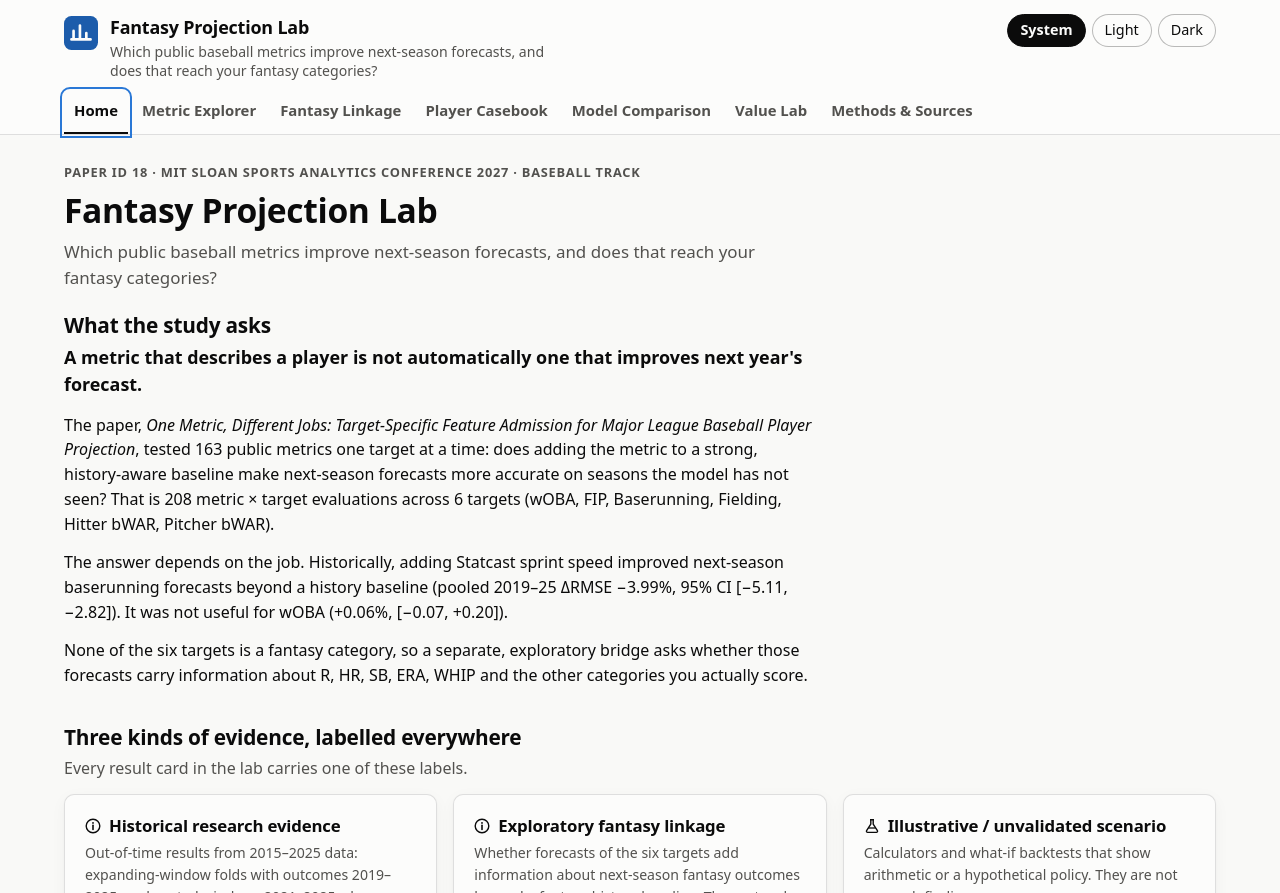
Test: app shell › every nav link opens its page
Earlier steps of the test are not shown.
Expected: the heading "Fantasy Projection Lab" is shown, x1=64 y1=187 x2=438 y2=233
What coordinates should you click on to do the following:
click the link "Metric Explorer"
I would click on:
 (199, 110)
Its box is x1=142 y1=100 x2=256 y2=120.
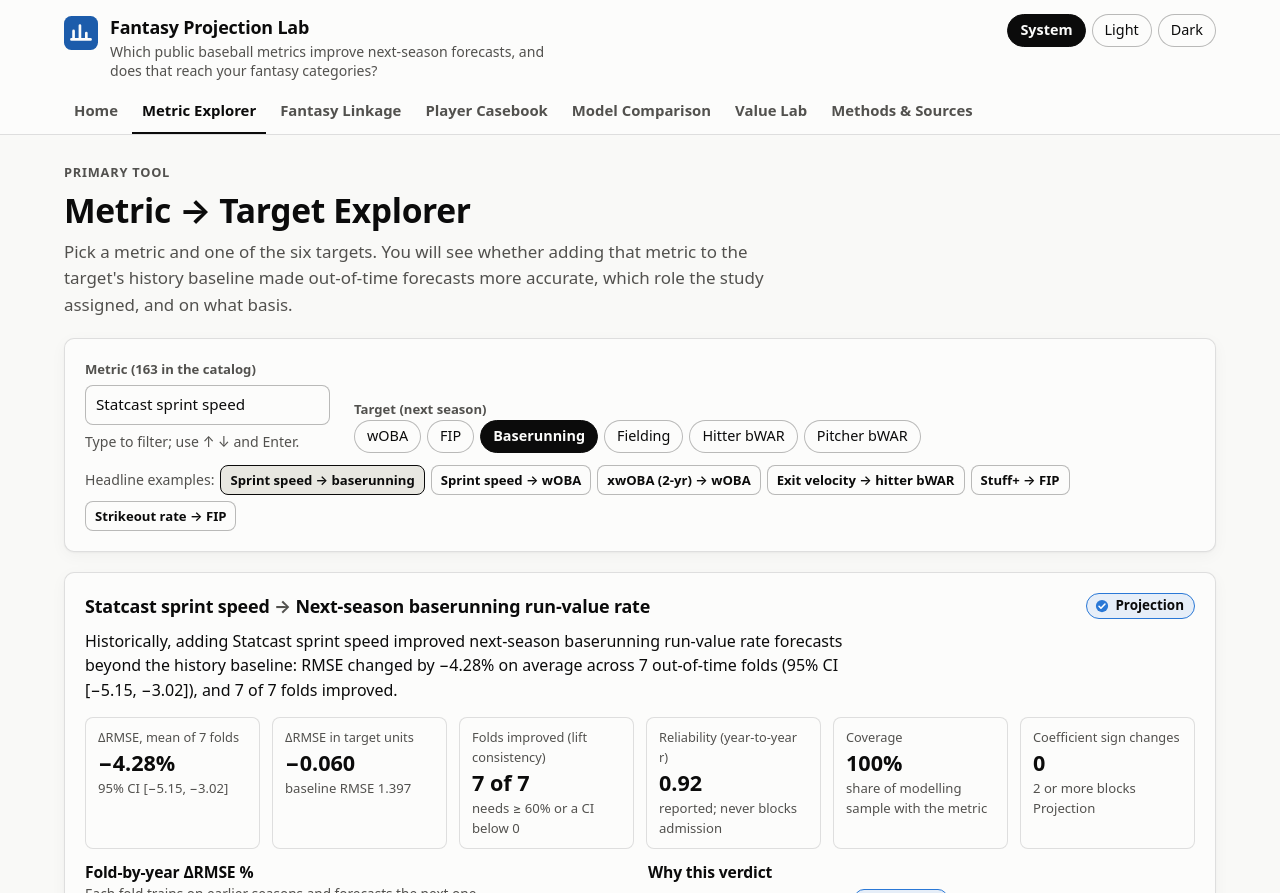
Expected: the heading "Metric → Target Explorer" is shown, x1=64 y1=187 x2=471 y2=233
What coordinates should you click on to do the following:
click the link "Fantasy Linkage"
I would click on:
 (341, 110)
Its box is x1=280 y1=100 x2=401 y2=120.
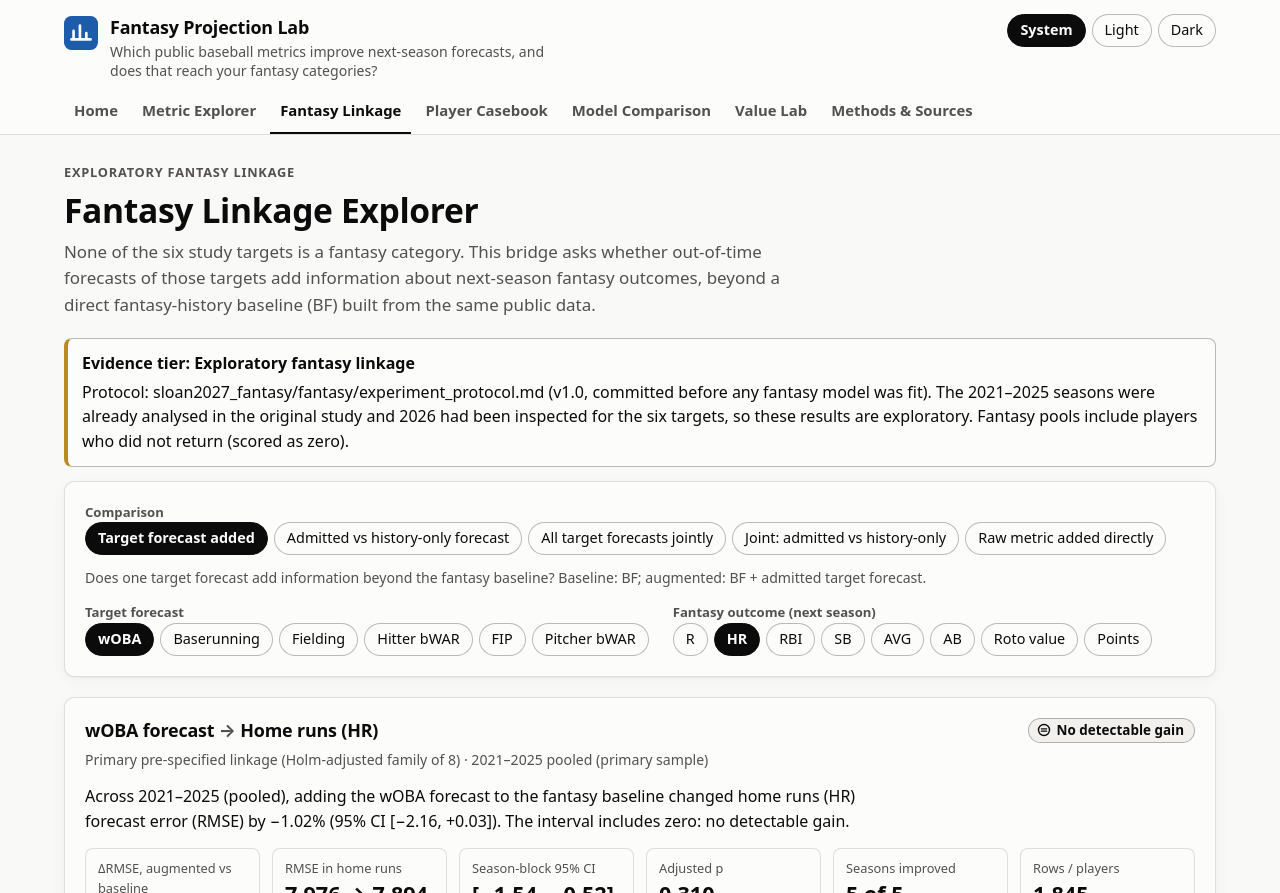
Expected: the heading "Fantasy Linkage Explorer" is shown, x1=64 y1=187 x2=478 y2=233
What coordinates should you click on to do the following:
click the link "Player Casebook"
I would click on:
 (487, 110)
Its box is x1=425 y1=100 x2=548 y2=120.
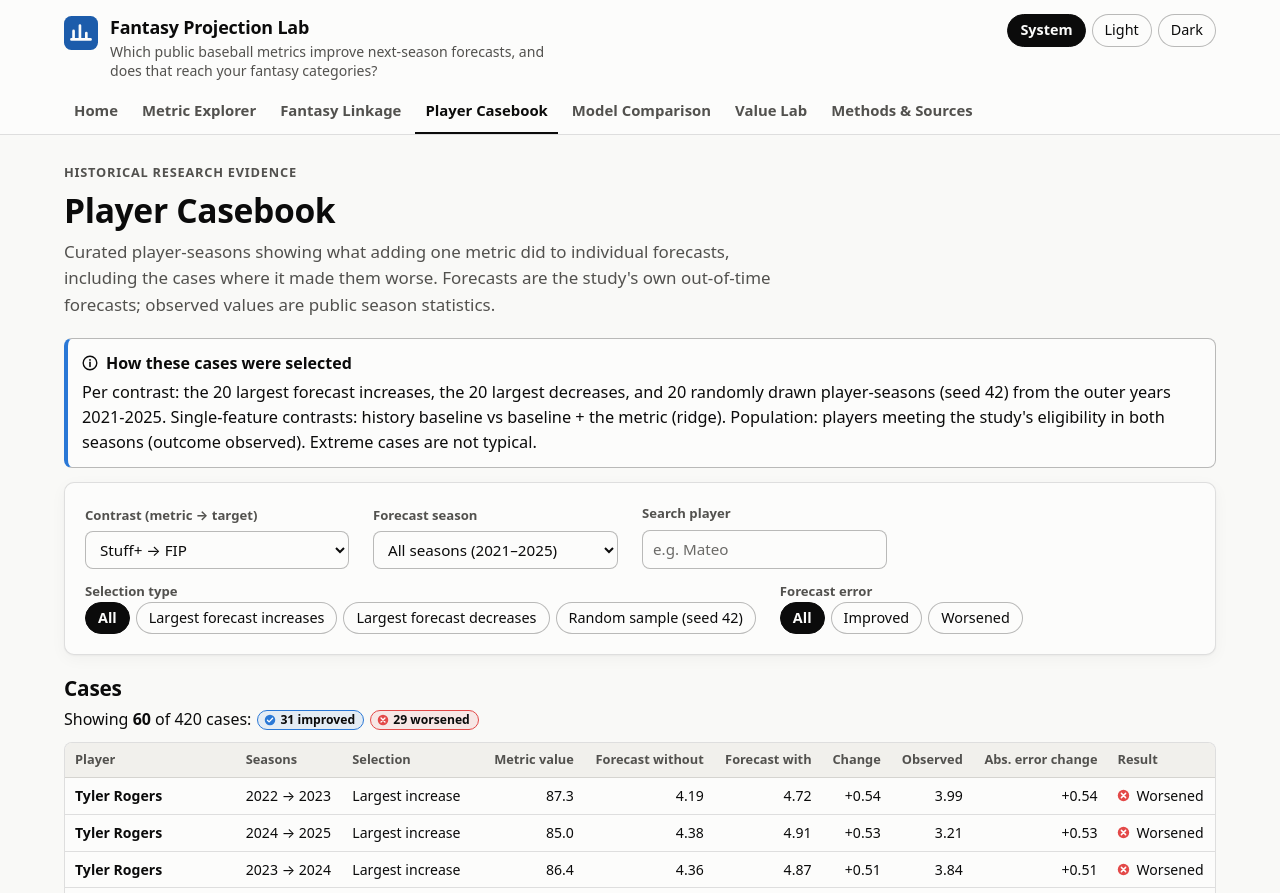
Expected: the heading "Player Casebook" is shown, x1=64 y1=187 x2=335 y2=233
What coordinates should you click on to do the following:
click the link "Model Comparison"
I would click on:
 (641, 110)
Its box is x1=572 y1=100 x2=711 y2=120.
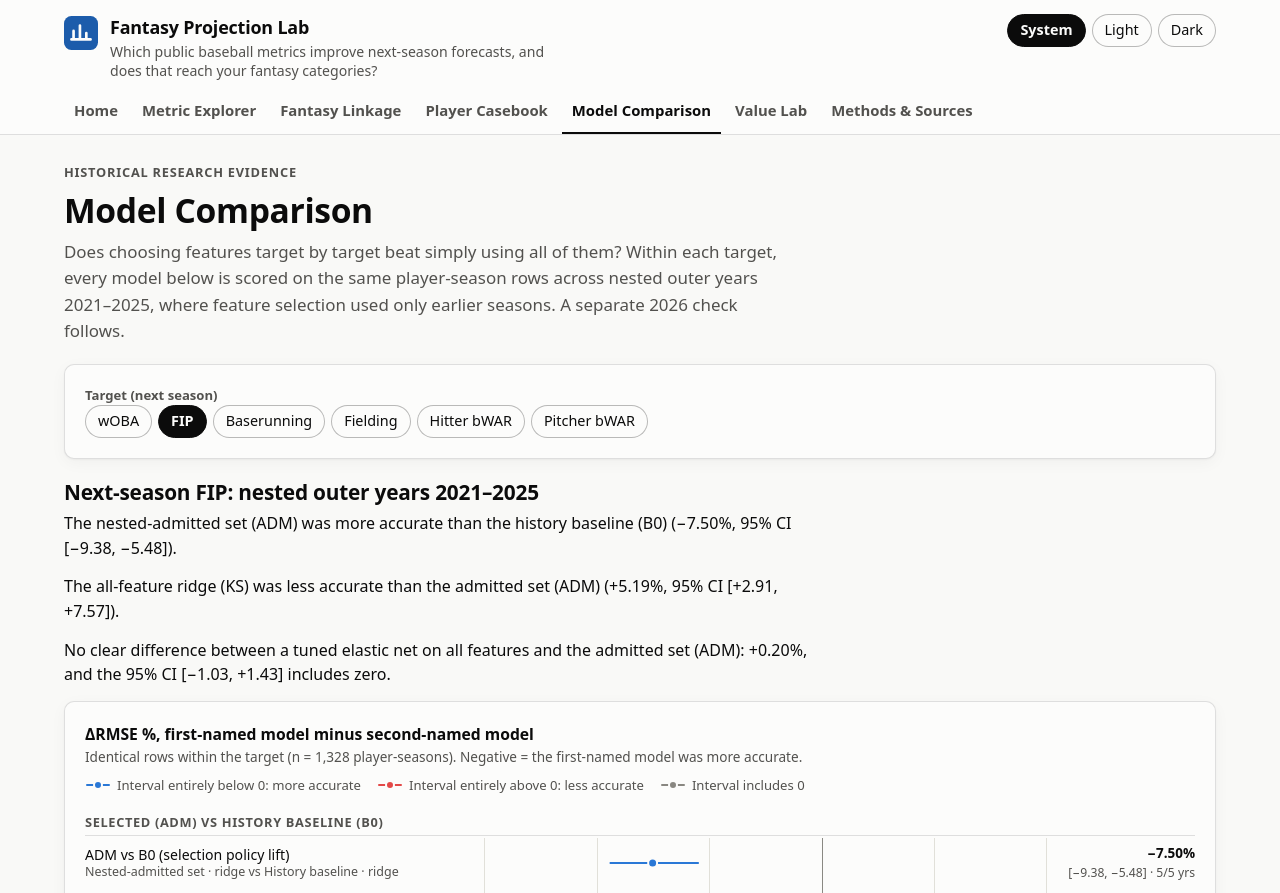
Expected: the heading "Model Comparison" is shown, x1=64 y1=187 x2=373 y2=233
What coordinates should you click on to do the following:
click the link "Value Lab"
I would click on:
 (771, 110)
Its box is x1=735 y1=100 x2=807 y2=120.
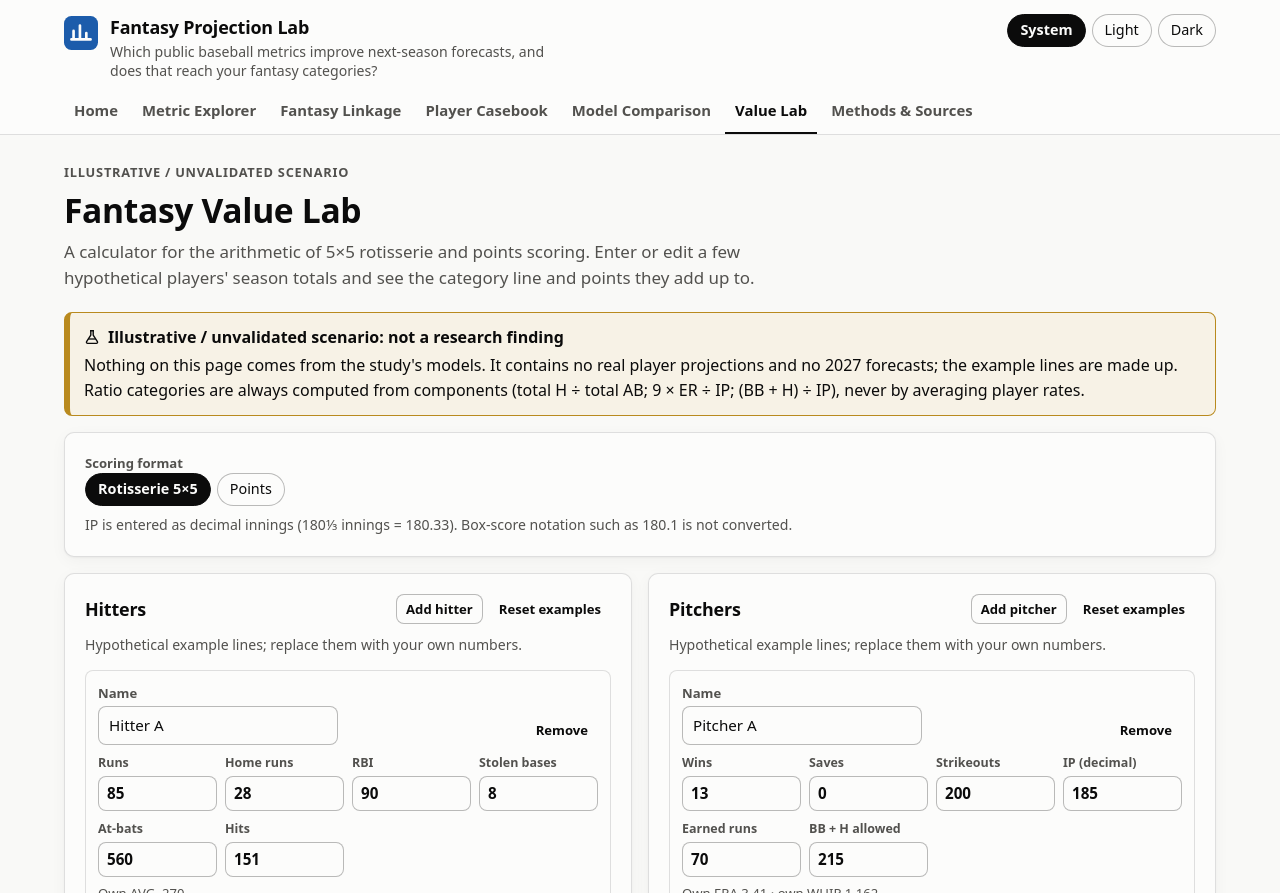
Expected: the heading "Fantasy Value Lab" is shown, x1=64 y1=187 x2=361 y2=233
What coordinates should you click on to do the following:
click the link "Methods & Sources"
I would click on:
 (902, 110)
Its box is x1=831 y1=100 x2=973 y2=120.
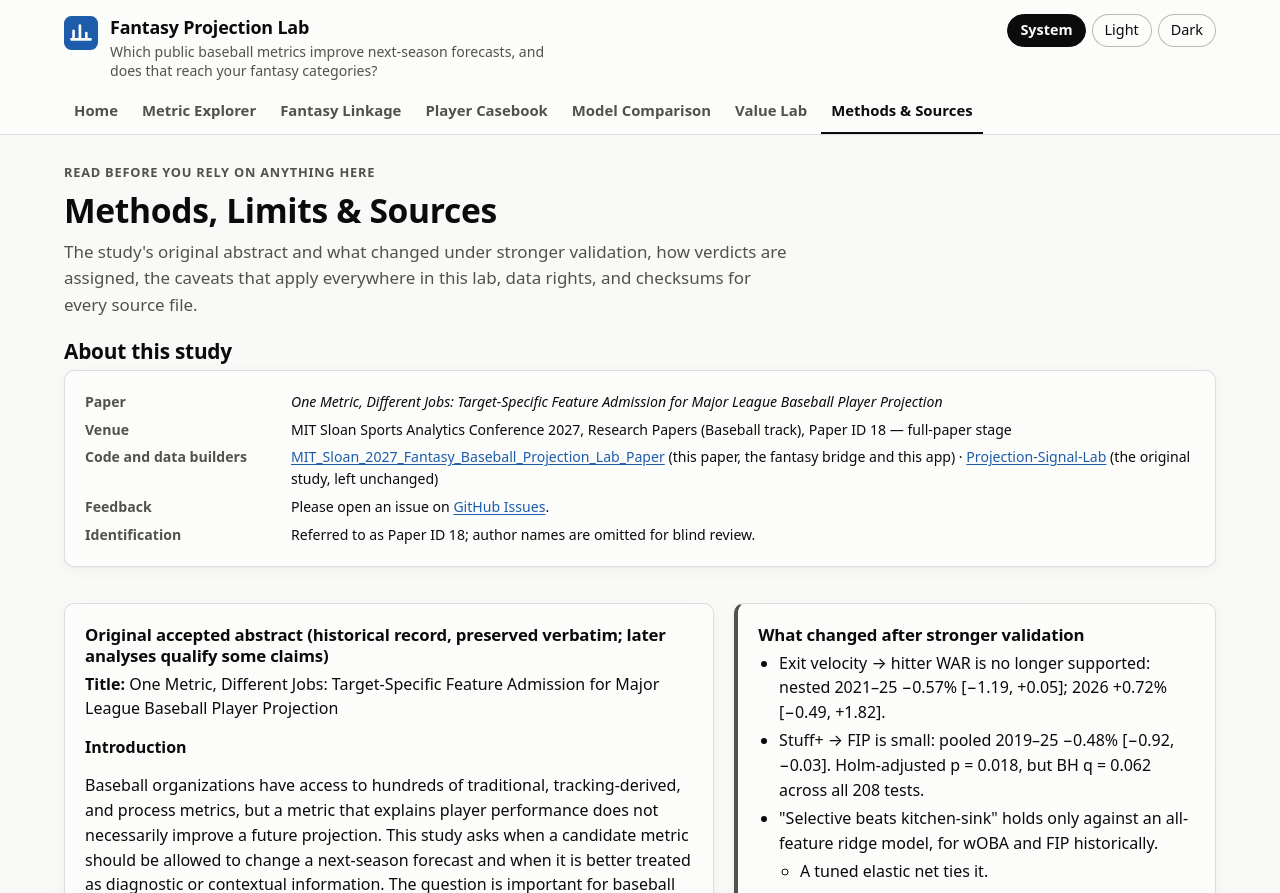
Expected: the heading "Methods, Limits & Sources" is shown, x1=64 y1=187 x2=497 y2=233
